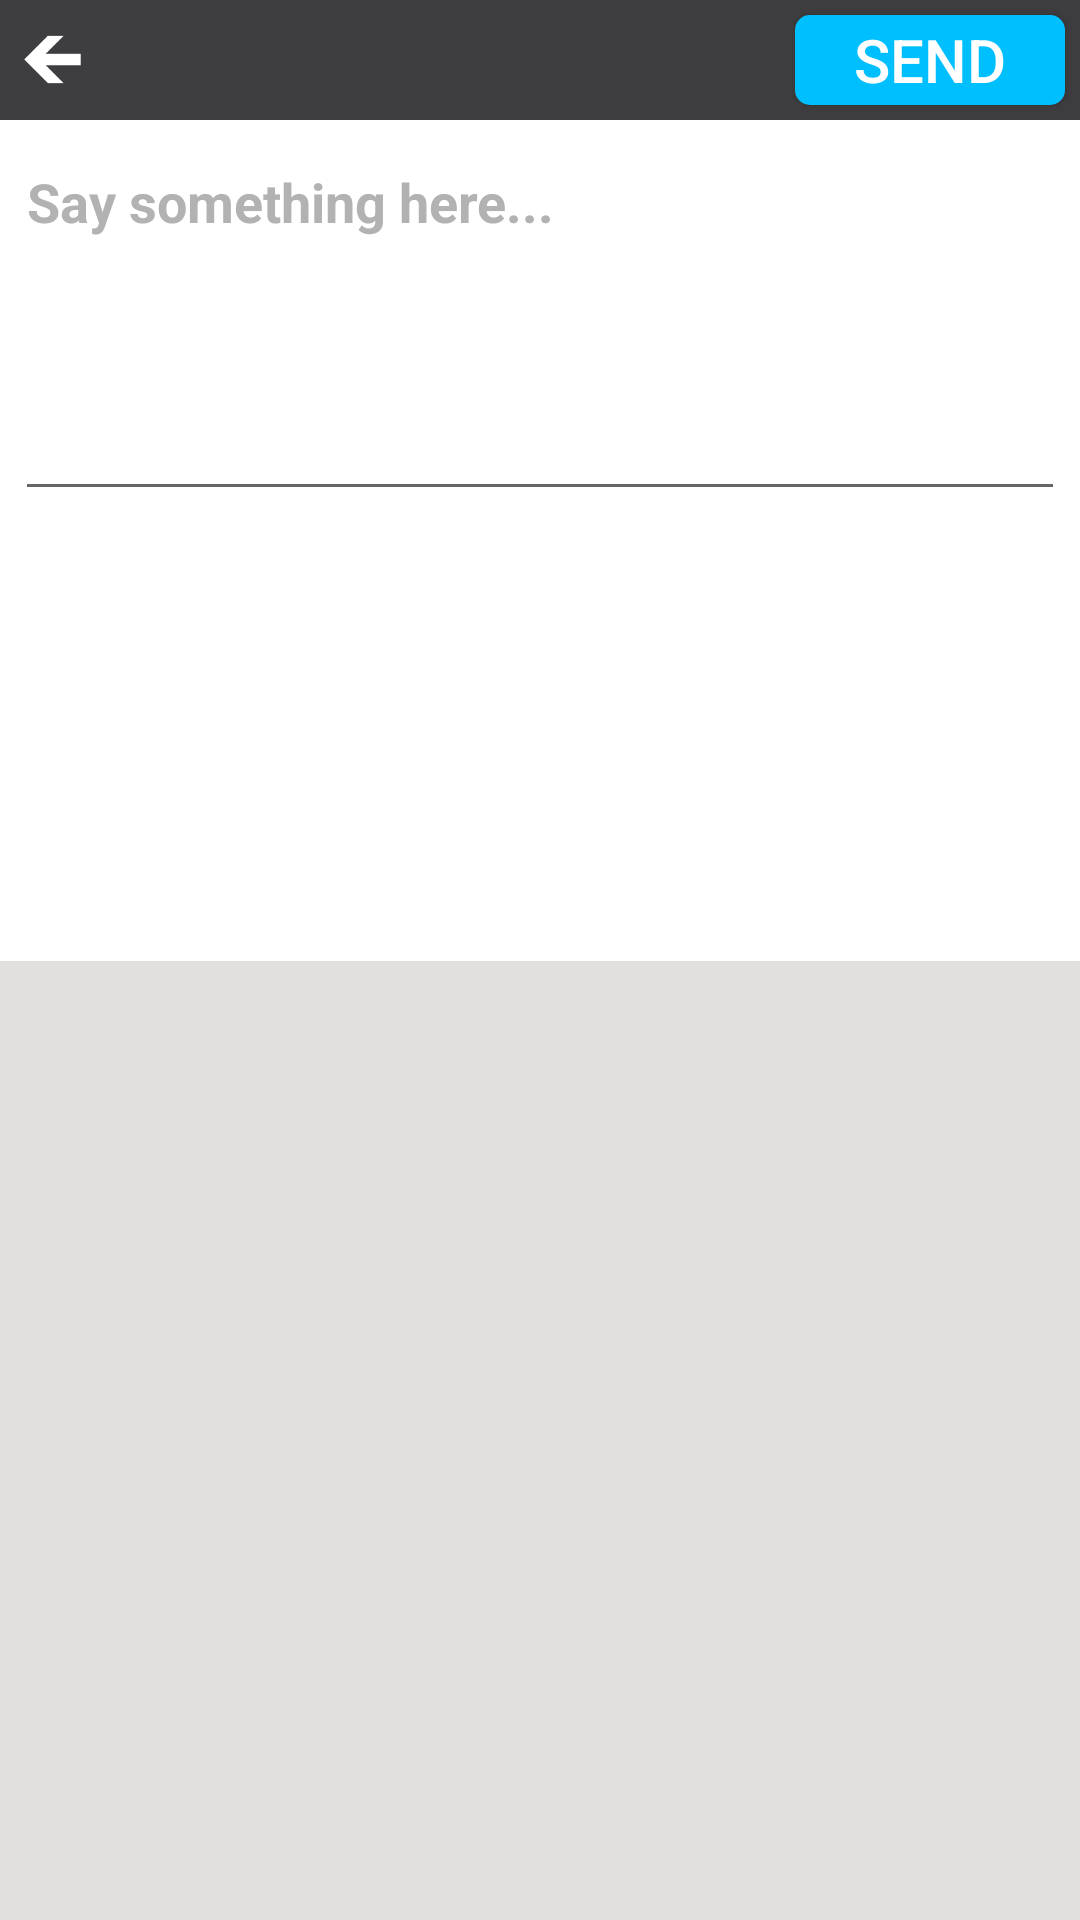

Icon bounding boxes for this 1080*1920 phone screenshot, format {"left": x1, "top": y1, "right": x2, "bottom": y2}:
back: {"left": 24, "top": 35, "right": 81, "bottom": 84}
